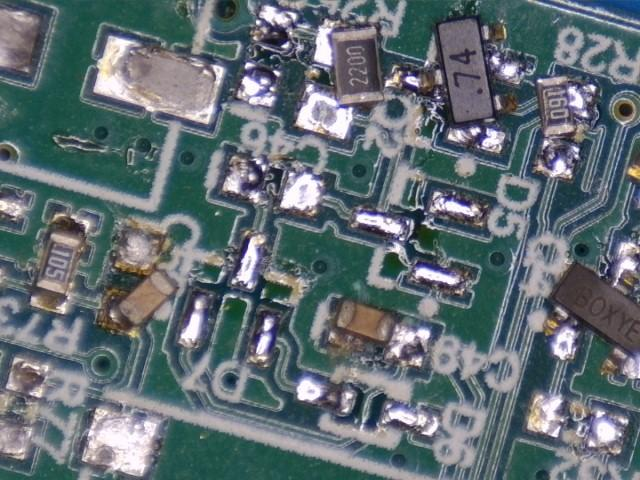Incorrect_installation: (388, 16, 526, 157), (543, 242, 640, 381), (294, 18, 386, 141), (97, 223, 178, 339), (327, 299, 433, 371), (534, 76, 601, 183)
